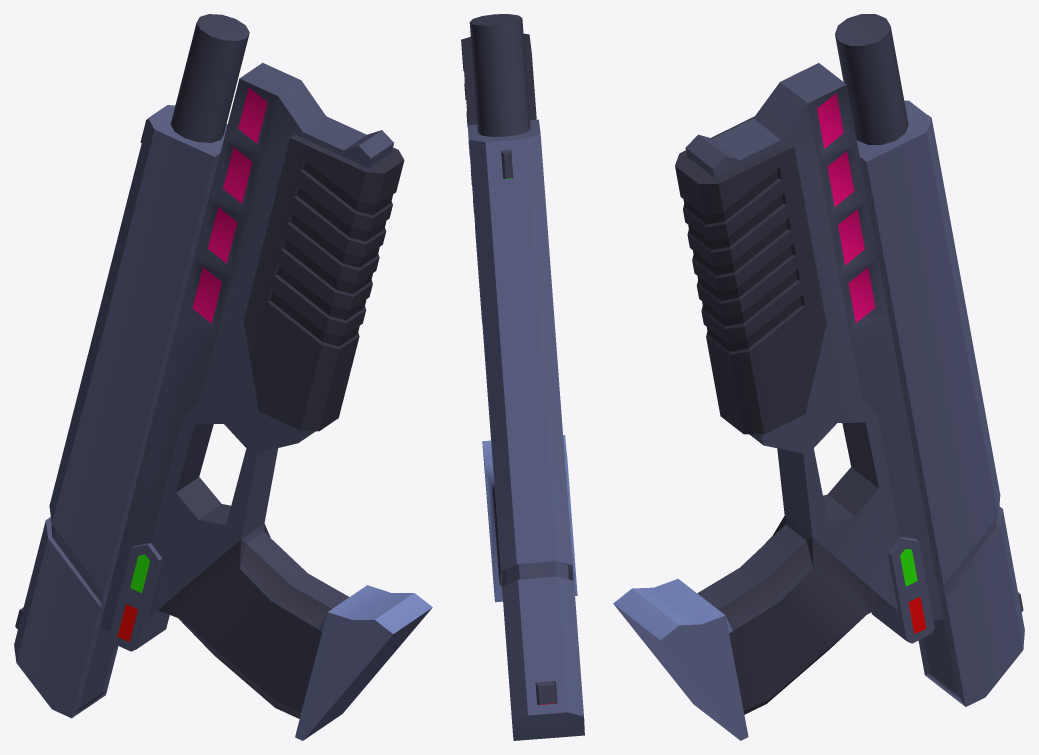
The model's file is w_handgun@cooldown.FBX.
3 renders of one model, left to right at view 1: azimuth 30°, elevation 25°; view 2: azimuth 150°, elevation 25°; view 3: azimuth 270°, elevation 25°, orthographic. The views are drawn at different scales.
Parts seen in each view (by area): view 1: Box004; view 2: Box004; view 3: Box004.
Part boxes in pixels (box(x1,y1,x2,y2)): Box004: box(14, 14, 432, 740); Box004: box(461, 14, 584, 740); Box004: box(613, 14, 1024, 740).
Size of the model in its own units: 20.9 by 53.07 by 27.63.
